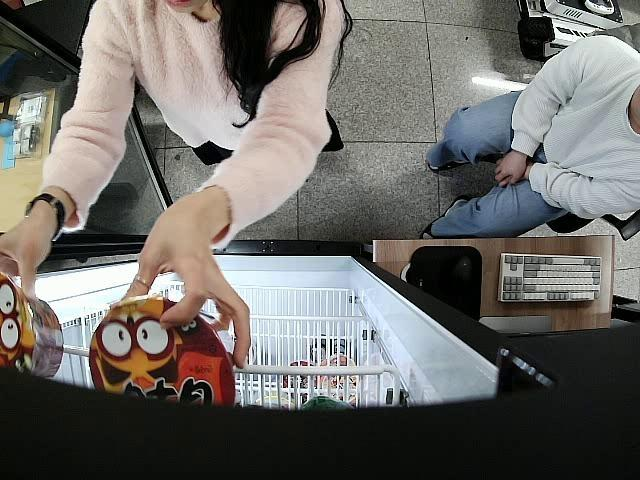05_nuguri_L: (89, 296, 238, 413), (0, 273, 64, 385)
